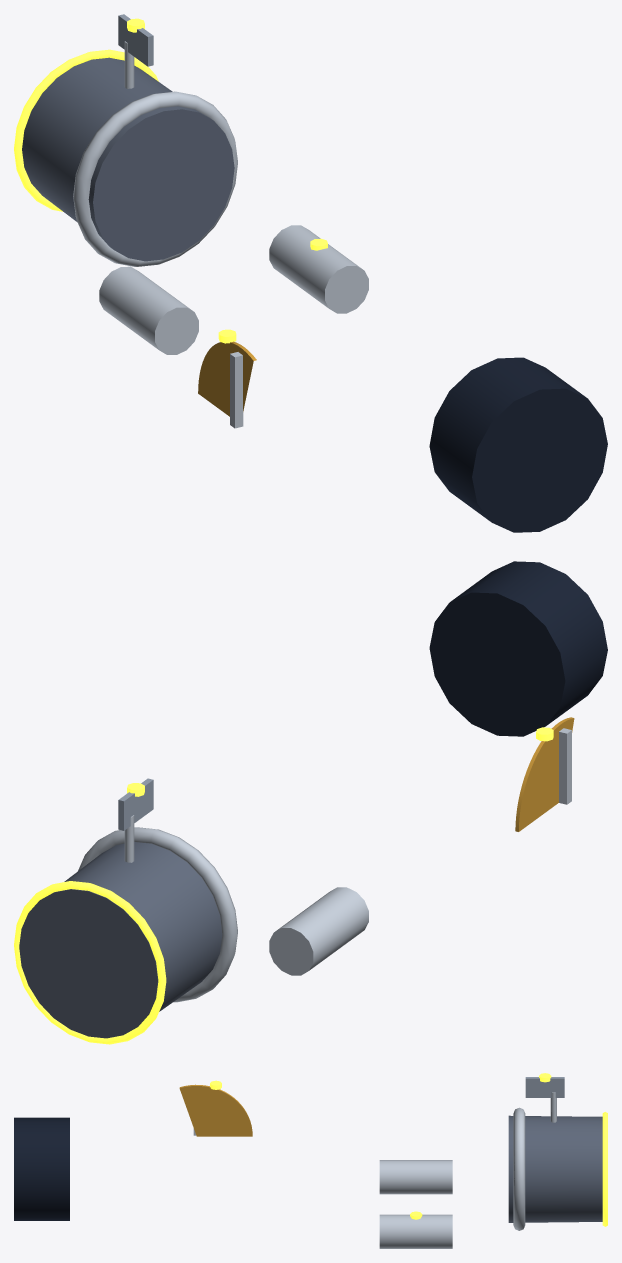
File: tower_nova_range_s5.glb
The picture shows the model from 3 angles, top to bottom: view 1: azimuth 30°, elevation 25°; view 2: azimuth 150°, elevation 25°; view 3: azimuth 270°, elevation 25°; orthographic projection. The views are drawn at different scales.
Visible parts, largest first — view 1: nova_tube_extension, nova_counterweight, nova_recup_ext_r, nova_tube_collar, nova_recup_ext_l, nova_quadrant_plate, nova_tube_ext_glow, nova_wind_vane, nova_quadrant_pointer; view 2: nova_tube_extension, nova_counterweight, nova_recup_ext_r, nova_tube_collar, nova_tube_ext_glow, nova_quadrant_plate, nova_wind_vane, nova_quadrant_pointer; view 3: nova_tube_extension, nova_counterweight, nova_quadrant_plate, nova_recup_ext_r, nova_recup_ext_l, nova_tube_collar, nova_wind_vane, nova_tube_ext_glow.
Part boxes in pixels (left/top/right/bottom): nova_tube_extension: left=22, top=57, right=234, bottom=261; nova_counterweight: left=429, top=357, right=607, bottom=532; nova_recup_ext_r: left=99, top=266, right=198, bottom=354; nova_tube_collar: left=73, top=91, right=237, bottom=266; nova_recup_ext_l: left=269, top=225, right=368, bottom=313; nova_quadrant_plate: left=198, top=341, right=256, bottom=416; nova_tube_ext_glow: left=14, top=49, right=158, bottom=211; nova_wind_vane: left=118, top=14, right=153, bottom=66; nova_quadrant_pointer: left=230, top=352, right=243, bottom=428; nova_tube_extension: left=19, top=842, right=222, bottom=1038; nova_counterweight: left=429, top=561, right=607, bottom=736; nova_recup_ext_r: left=269, top=887, right=368, bottom=975; nova_tube_collar: left=78, top=827, right=237, bottom=1002; nova_tube_ext_glow: left=14, top=881, right=166, bottom=1044; nova_quadrant_plate: left=515, top=717, right=574, bottom=831; nova_wind_vane: left=118, top=778, right=153, bottom=830; nova_quadrant_pointer: left=559, top=728, right=571, bottom=804; nova_tube_extension: left=508, top=1115, right=602, bottom=1222; nova_counterweight: left=14, top=1117, right=69, bottom=1220; nova_quadrant_plate: left=179, top=1084, right=252, bottom=1136; nova_recup_ext_r: left=379, top=1160, right=452, bottom=1194; nova_recup_ext_l: left=379, top=1214, right=452, bottom=1248; nova_tube_collar: left=513, top=1107, right=525, bottom=1230; nova_wind_vane: left=525, top=1077, right=564, bottom=1097; nova_tube_ext_glow: left=602, top=1112, right=607, bottom=1226.
Size of the model in its own units: 0.973 by 0.769 by 2.76.
